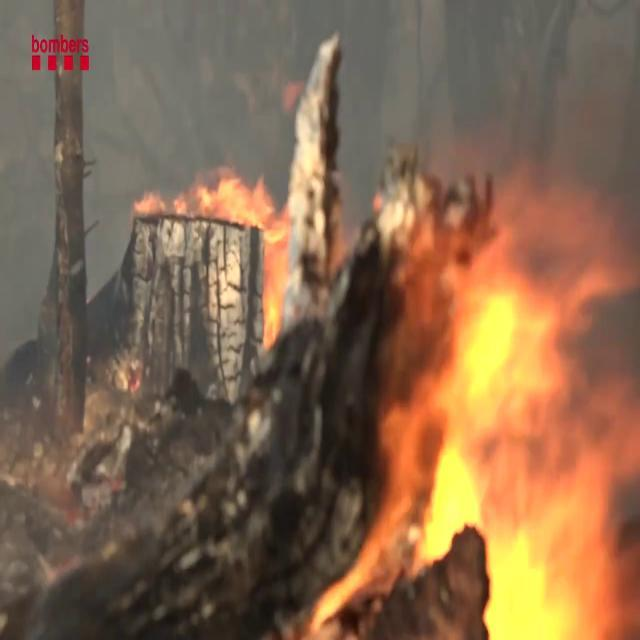Fire: (388, 239, 640, 636), (140, 158, 292, 240), (260, 214, 294, 350)
